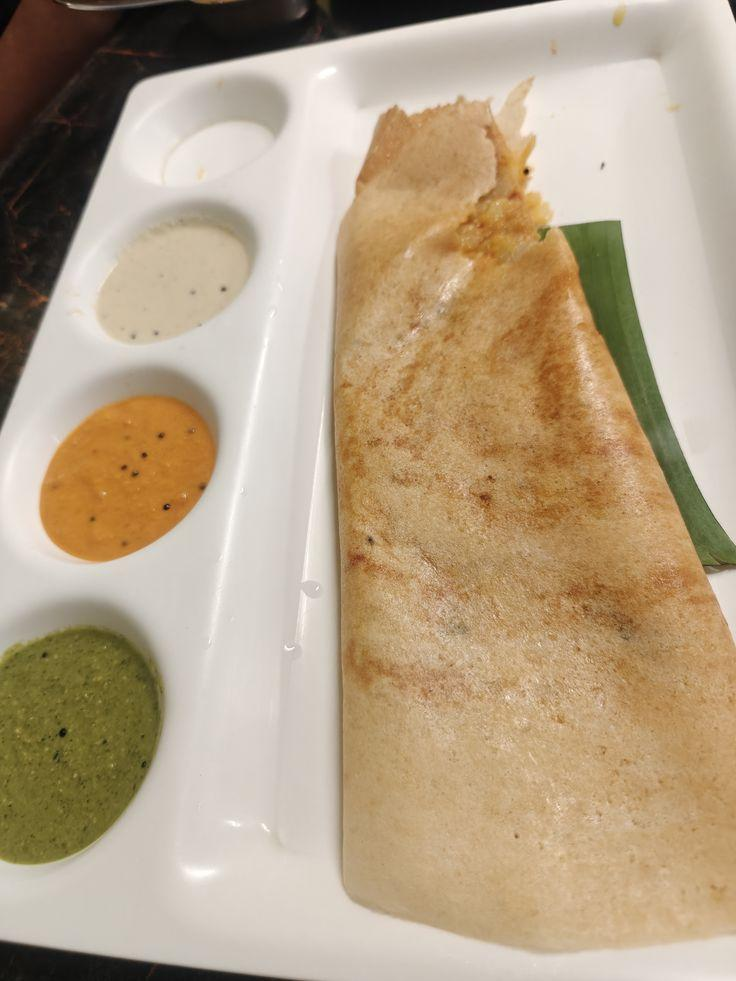dosa: (321, 93, 736, 952)
